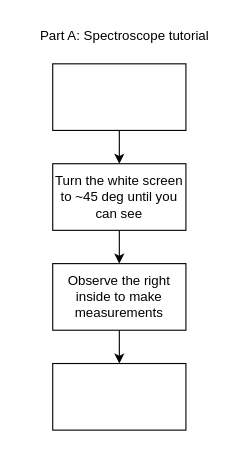
This 249x450 diagram has some shape labels left out. The shapes that lost their labels are listed below. From the top down, each one's box as (x1, y1, x2, y2) in pixels, then its label:
(52, 63, 186, 130): Move spectroscope slit 0.5m from light
(52, 362, 186, 430): Adjust the spectroscope
